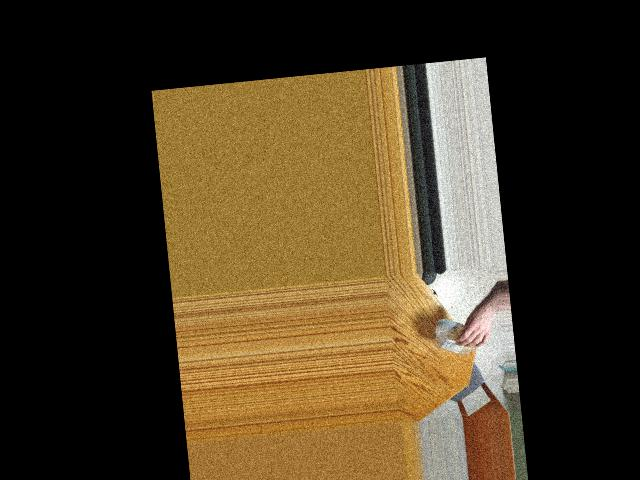cheese: (437, 320, 477, 353)
